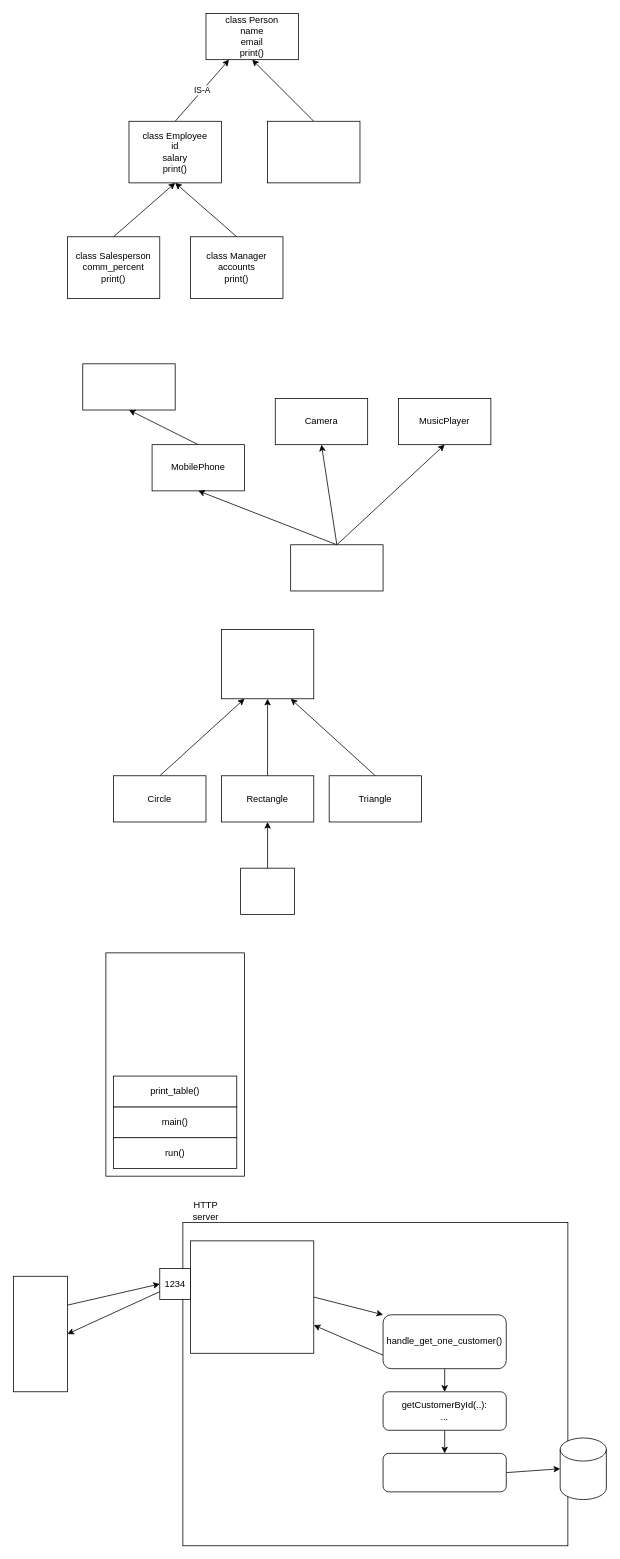
Some shapes in this 620 by 1559 pixel diagram are drawn without their labels. The shapes that lost their labels are listed below. From the top down, each one's centre as x and y in pixels, then its label:
At point (313, 152): "class Student rollno gpa print()".
At point (128, 386): "Phone".
At point (336, 567): "SmartPhone".
At point (267, 664): "GeometricShape paint() draw() find_area()".
At point (267, 890): "Square".
At point (252, 1296): "Flask app (runtime)".
At point (40, 1334): "http client".
At point (444, 1472): "DAO (SQL Alchemy)".
